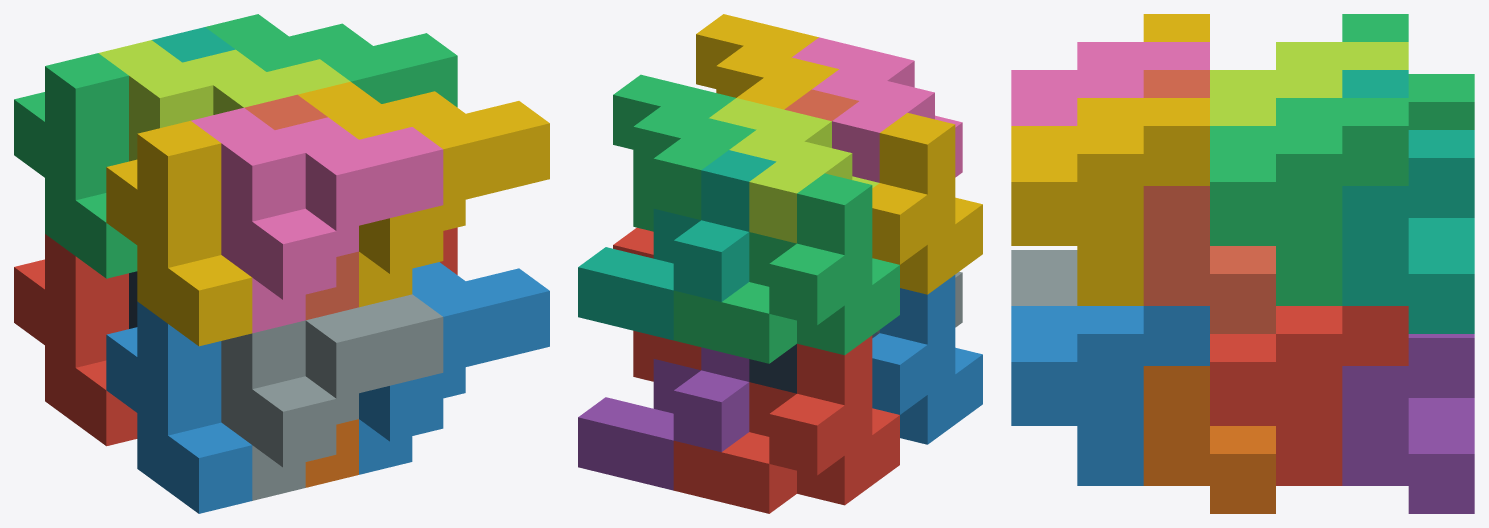
The model's file is tiling.obj.
3 renders of one model, left to right at view 1: azimuth 30°, elevation 25°; view 2: azimuth 150°, elevation 25°; view 3: azimuth 270°, elevation 25°, orthographic. The views are drawn at different scales.
Parts seen in each view (by area): view 1: copy_2_domain_4, copy_2_domain_2, copy_1_domain_4, copy_2_domain_8, copy_1_domain_2, copy_1_domain_3, copy_2_domain_6, copy_1_domain_1, copy_2_domain_3, copy_2_domain_7, copy_1_domain_8, copy_1_domain_6 (+2 smaller); view 2: copy_1_domain_3, copy_1_domain_1, copy_1_domain_7, copy_1_domain_5, copy_1_domain_4, copy_2_domain_7, copy_1_domain_2, copy_2_domain_3, copy_2_domain_4, copy_2_domain_8, copy_2_domain_5, copy_2_domain_1 (+1 smaller); view 3: copy_2_domain_7, copy_2_domain_8, copy_2_domain_6, copy_1_domain_7, copy_2_domain_5, copy_1_domain_5, copy_1_domain_8, copy_1_domain_6, copy_2_domain_4, copy_2_domain_3, copy_1_domain_3, copy_2_domain_2 (+1 smaller).
Part boxes in pixels (x1=…): copy_2_domain_4: x1=191, y1=108, x2=443, y2=333; copy_2_domain_2: x1=221, y1=294, x2=443, y2=500; copy_1_domain_4: x1=106, y1=121, x2=252, y2=346; copy_2_domain_8: x1=298, y1=81, x2=549, y2=307; copy_1_domain_2: x1=106, y1=301, x2=252, y2=513; copy_1_domain_3: x1=14, y1=53, x2=137, y2=278; copy_2_domain_6: x1=359, y1=262, x2=549, y2=474; copy_1_domain_1: x1=14, y1=234, x2=137, y2=446; copy_2_domain_3: x1=98, y1=40, x2=350, y2=161; copy_2_domain_7: x1=205, y1=14, x2=457, y2=107; copy_1_domain_8: x1=244, y1=94, x2=358, y2=320; copy_1_domain_6: x1=305, y1=419, x2=358, y2=487; copy_1_domain_3: x1=673, y1=173, x2=899, y2=363; copy_1_domain_1: x1=673, y1=335, x2=899, y2=513; copy_1_domain_7: x1=578, y1=150, x2=776, y2=340; copy_1_domain_5: x1=578, y1=347, x2=749, y2=490; copy_1_domain_4: x1=872, y1=113, x2=982, y2=294; copy_2_domain_7: x1=613, y1=74, x2=756, y2=231; copy_1_domain_2: x1=872, y1=275, x2=982, y2=444; copy_2_domain_3: x1=709, y1=98, x2=879, y2=243; copy_2_domain_4: x1=792, y1=37, x2=962, y2=182; copy_2_domain_8: x1=696, y1=14, x2=838, y2=109; copy_2_domain_5: x1=613, y1=227, x2=701, y2=381; copy_2_domain_1: x1=749, y1=332, x2=879, y2=393; copy_2_domain_7: x1=1210, y1=98, x2=1408, y2=305; copy_2_domain_8: x1=1011, y1=98, x2=1209, y2=305; copy_2_domain_6: x1=1011, y1=306, x2=1209, y2=485; copy_1_domain_7: x1=1342, y1=70, x2=1474, y2=333; copy_2_domain_5: x1=1210, y1=306, x2=1408, y2=485; copy_1_domain_5: x1=1342, y1=334, x2=1474, y2=513; copy_1_domain_8: x1=1143, y1=70, x2=1275, y2=333; copy_1_domain_6: x1=1143, y1=366, x2=1275, y2=513; copy_2_domain_4: x1=1011, y1=42, x2=1209, y2=125; copy_2_domain_3: x1=1210, y1=42, x2=1408, y2=125; copy_1_domain_3: x1=1342, y1=14, x2=1474, y2=129; copy_2_domain_2: x1=1011, y1=250, x2=1077, y2=305.
Bounding box in the file's own units: 6 × 6 × 7.
